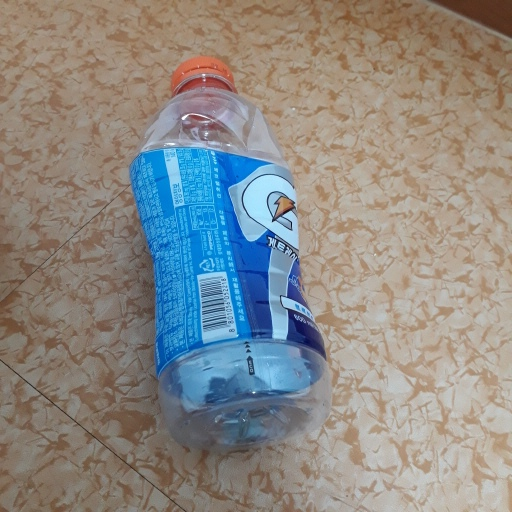Plastic_0: (132, 56, 333, 450)
